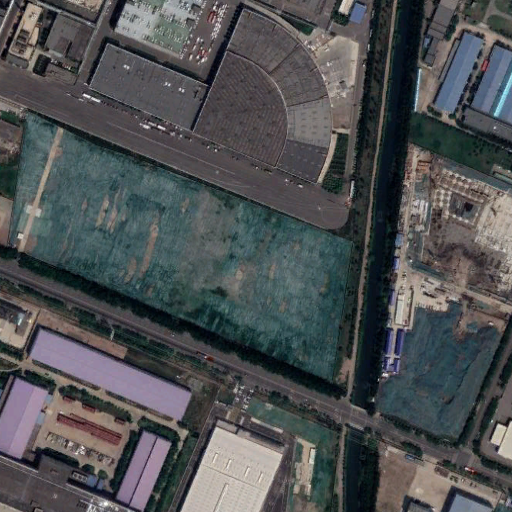cw: (6, 107, 355, 387), (372, 300, 503, 446), (244, 396, 343, 512)
